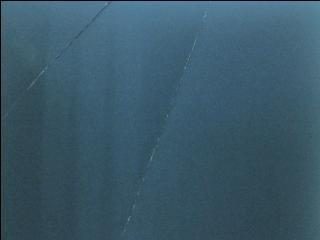crack: (119, 0, 214, 240), (0, 0, 111, 120)
